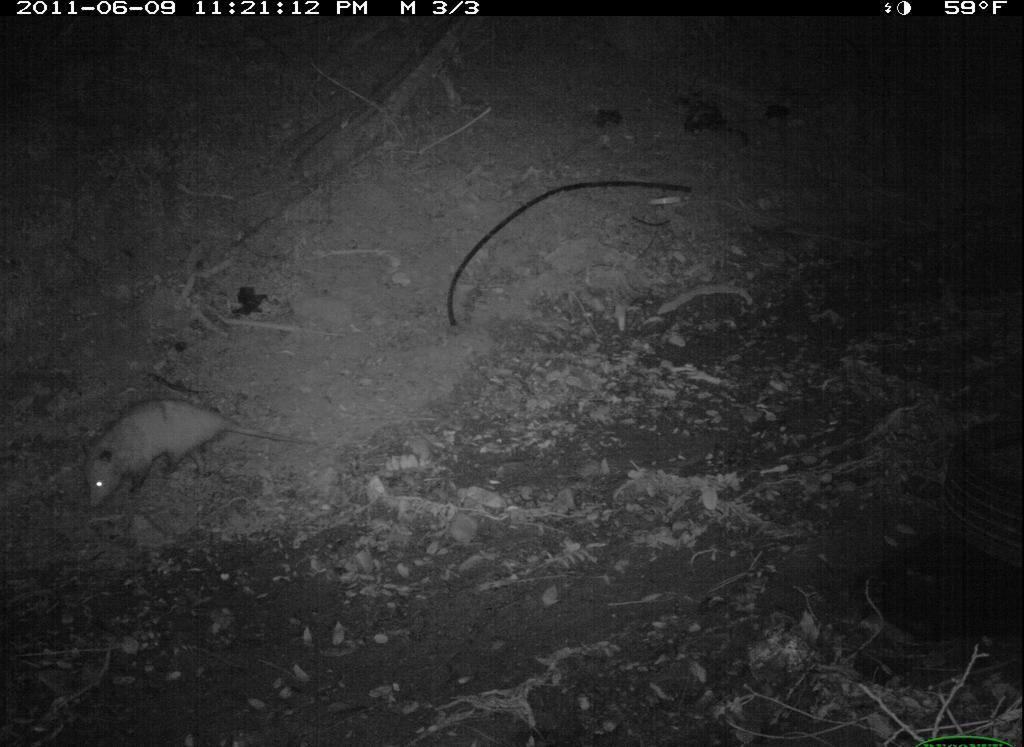opossum: (79, 396, 322, 514)
